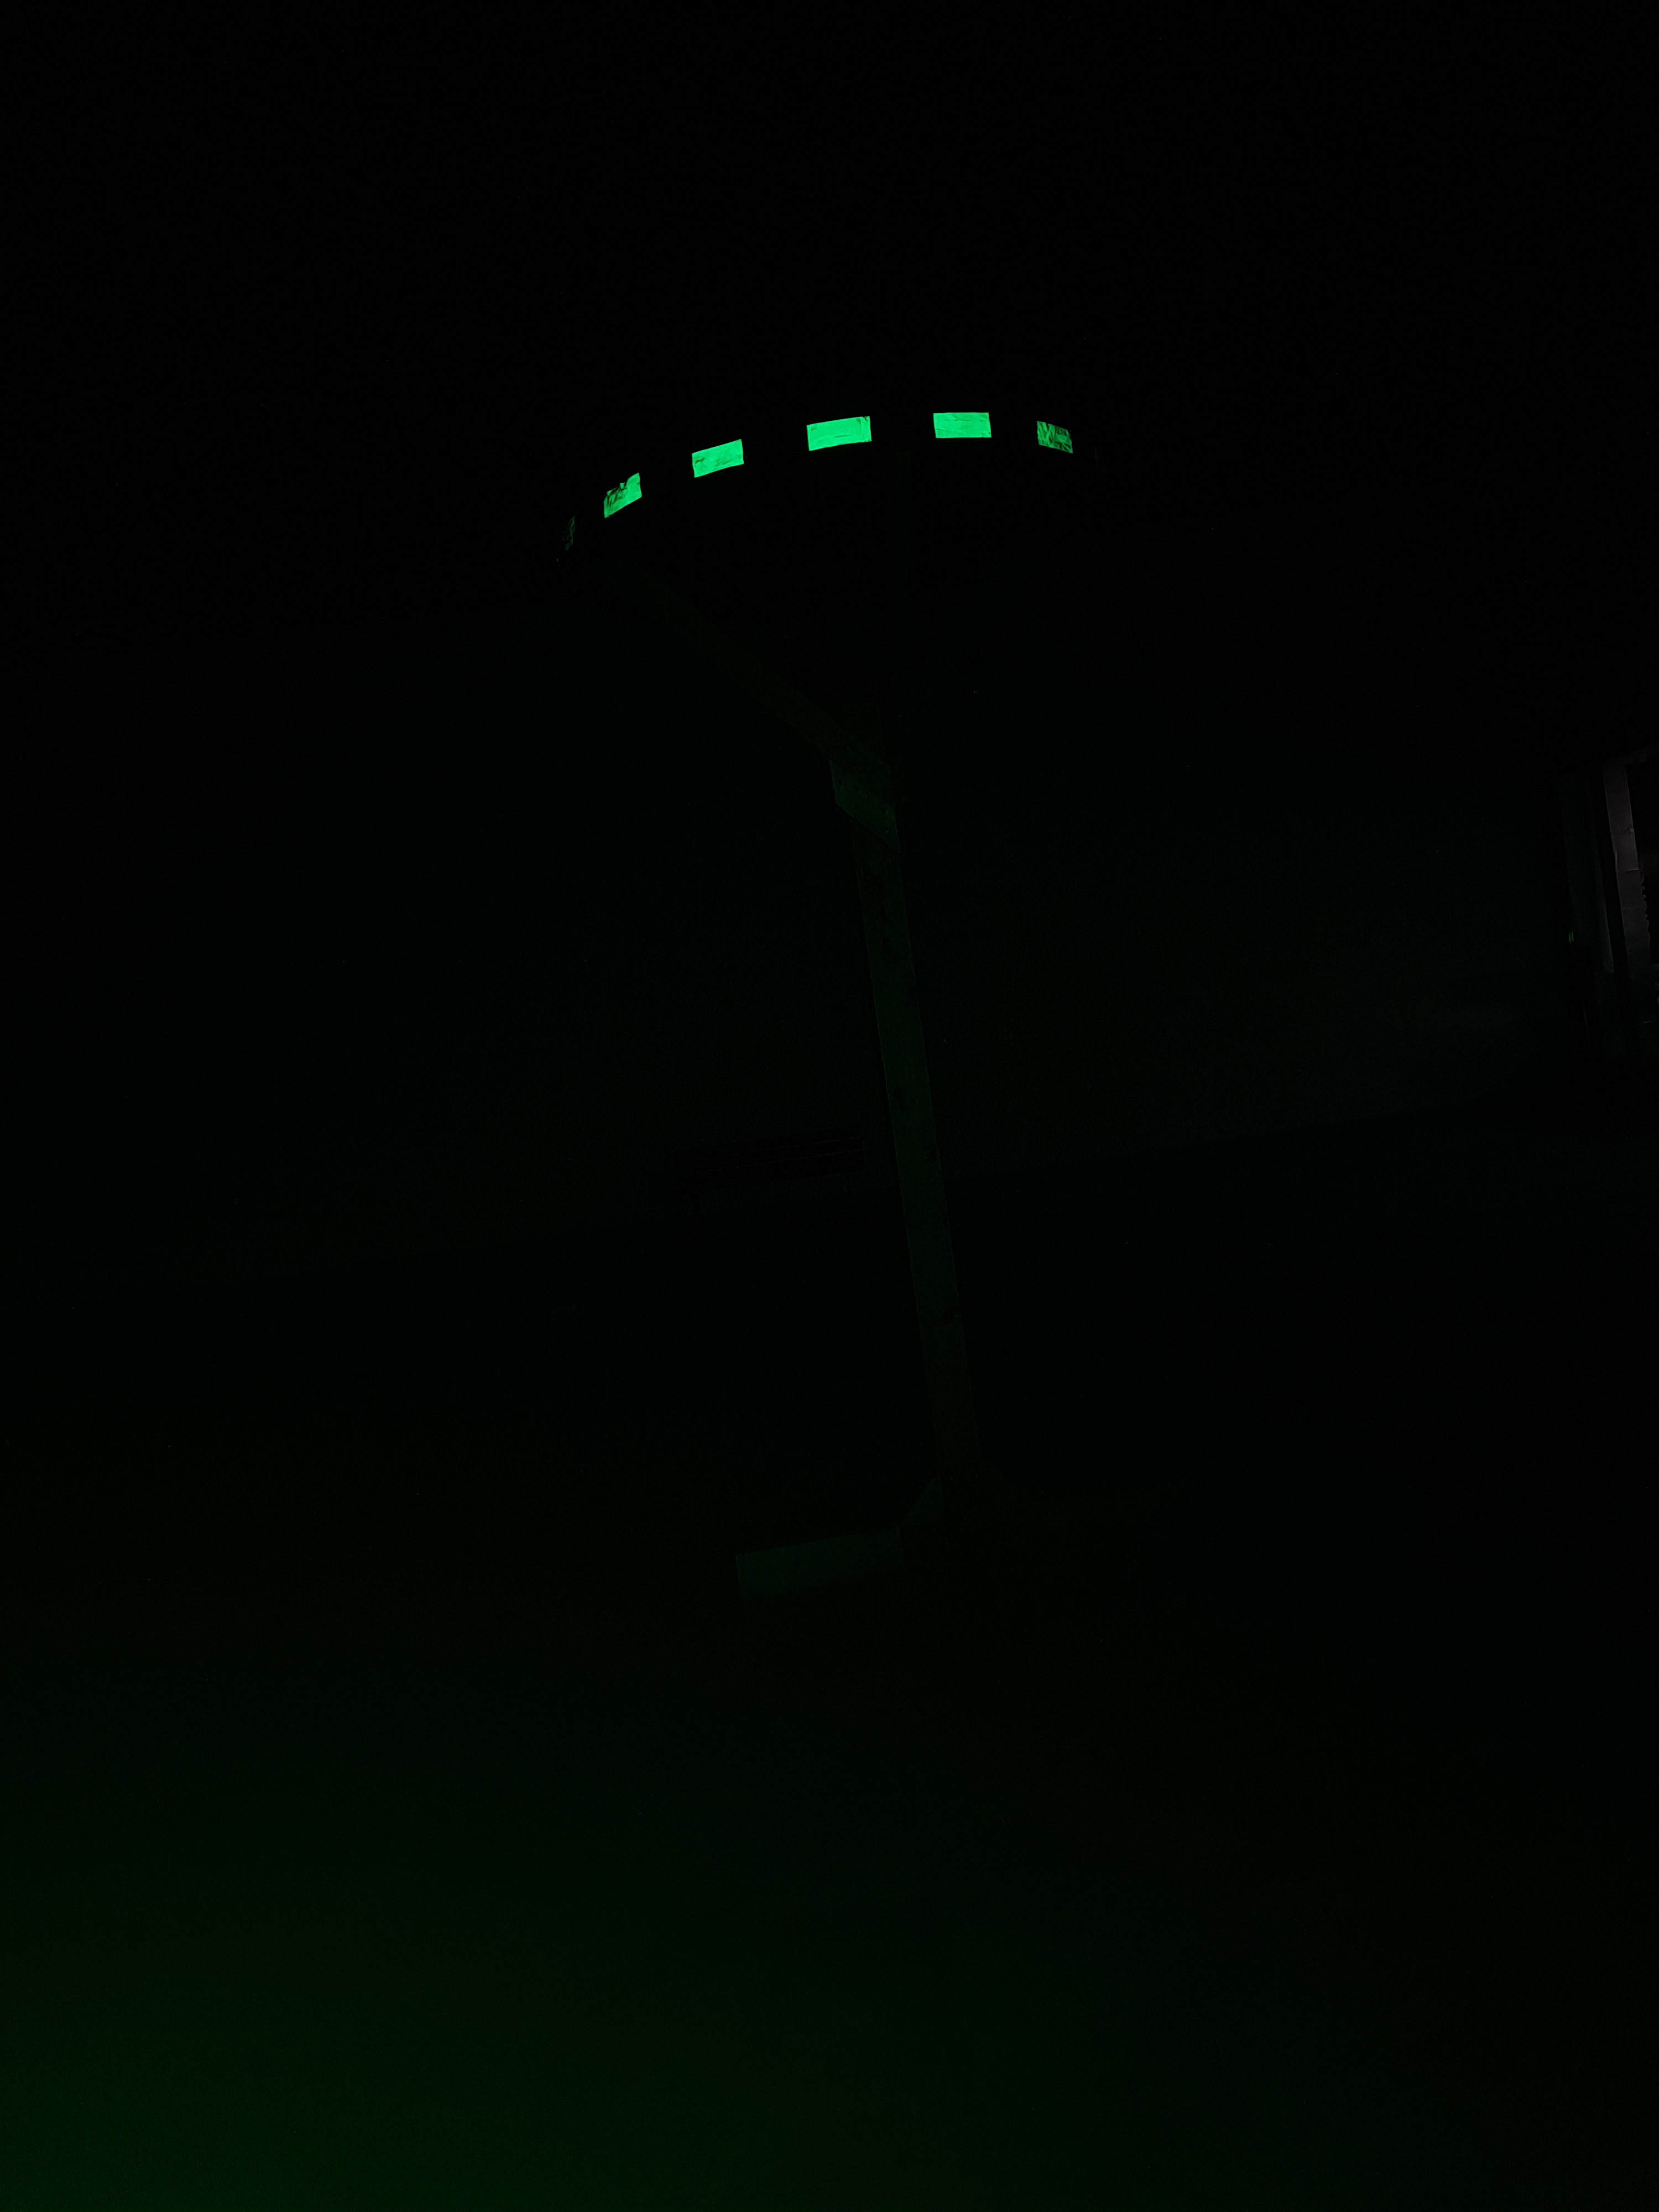hoop: (598, 402, 1077, 519)
